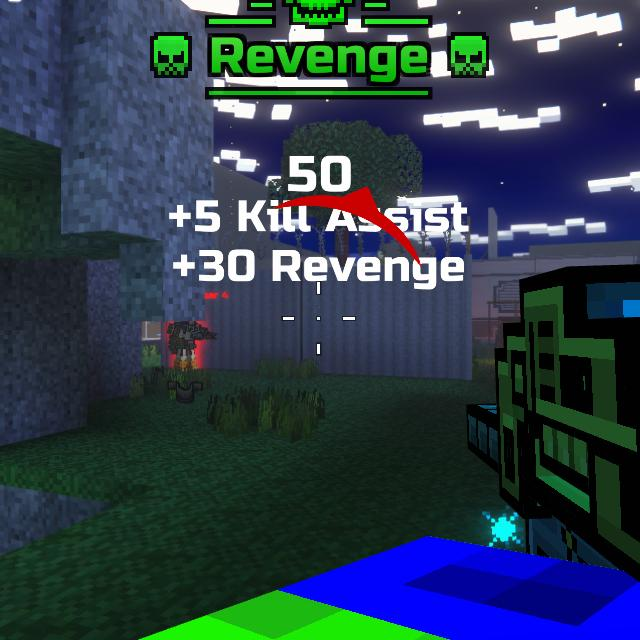Enemy: (169, 322, 212, 372)
